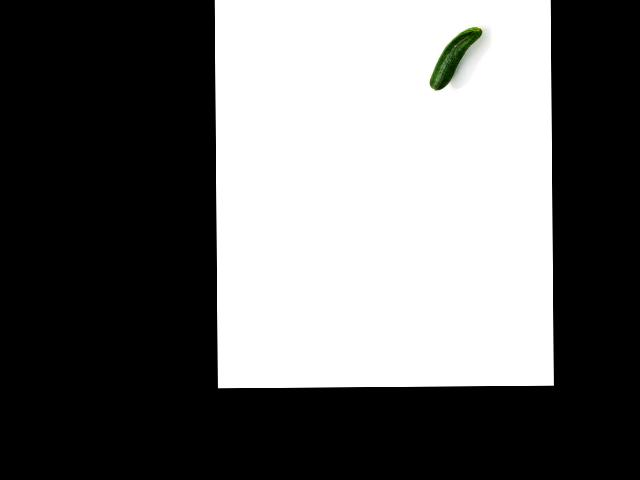cucumber: (429, 27, 483, 90)
